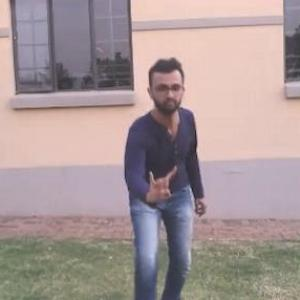takeoff-hand: (135, 155, 180, 208)
